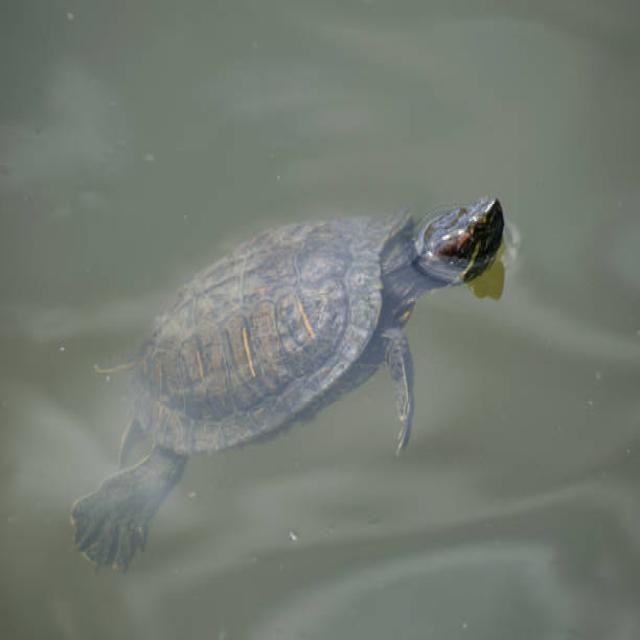terrapin: (74, 151, 564, 545), (422, 162, 536, 325)
